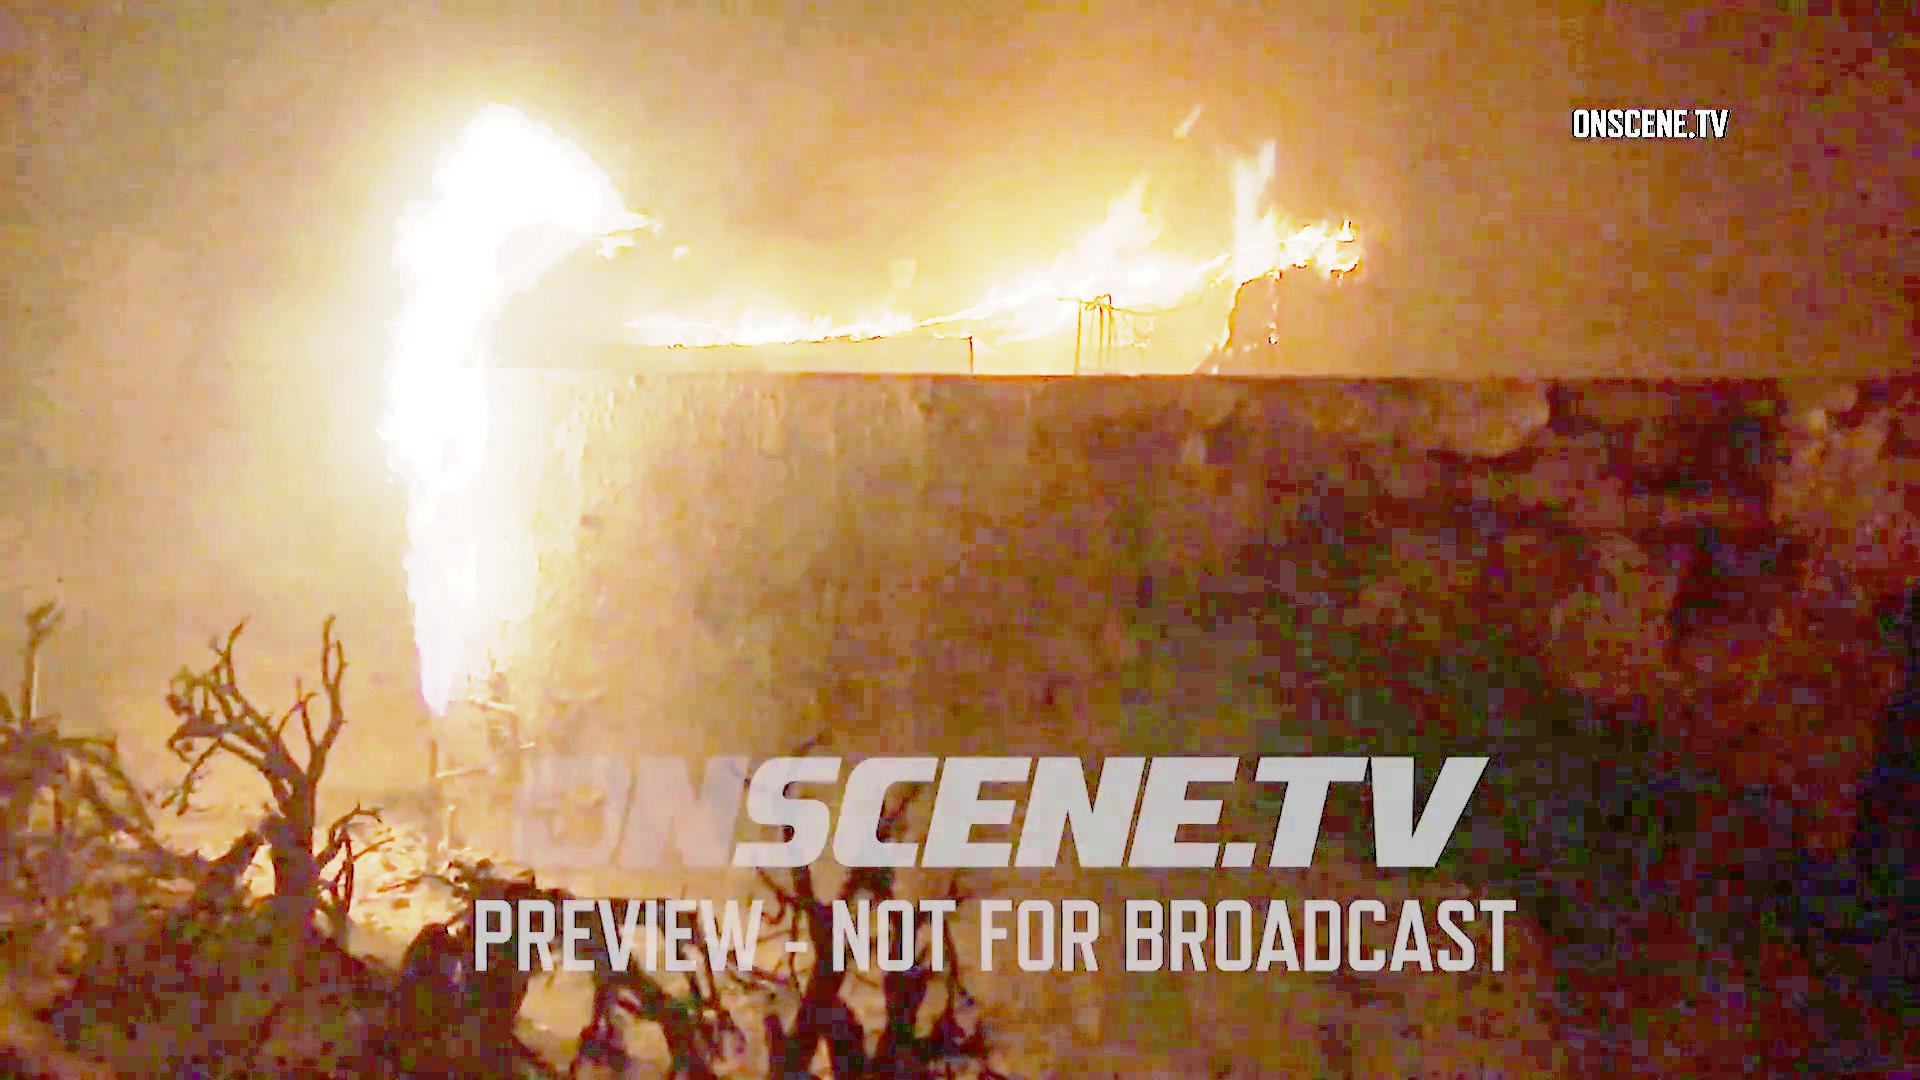fire: (382, 84, 667, 756), (988, 94, 1201, 331)
